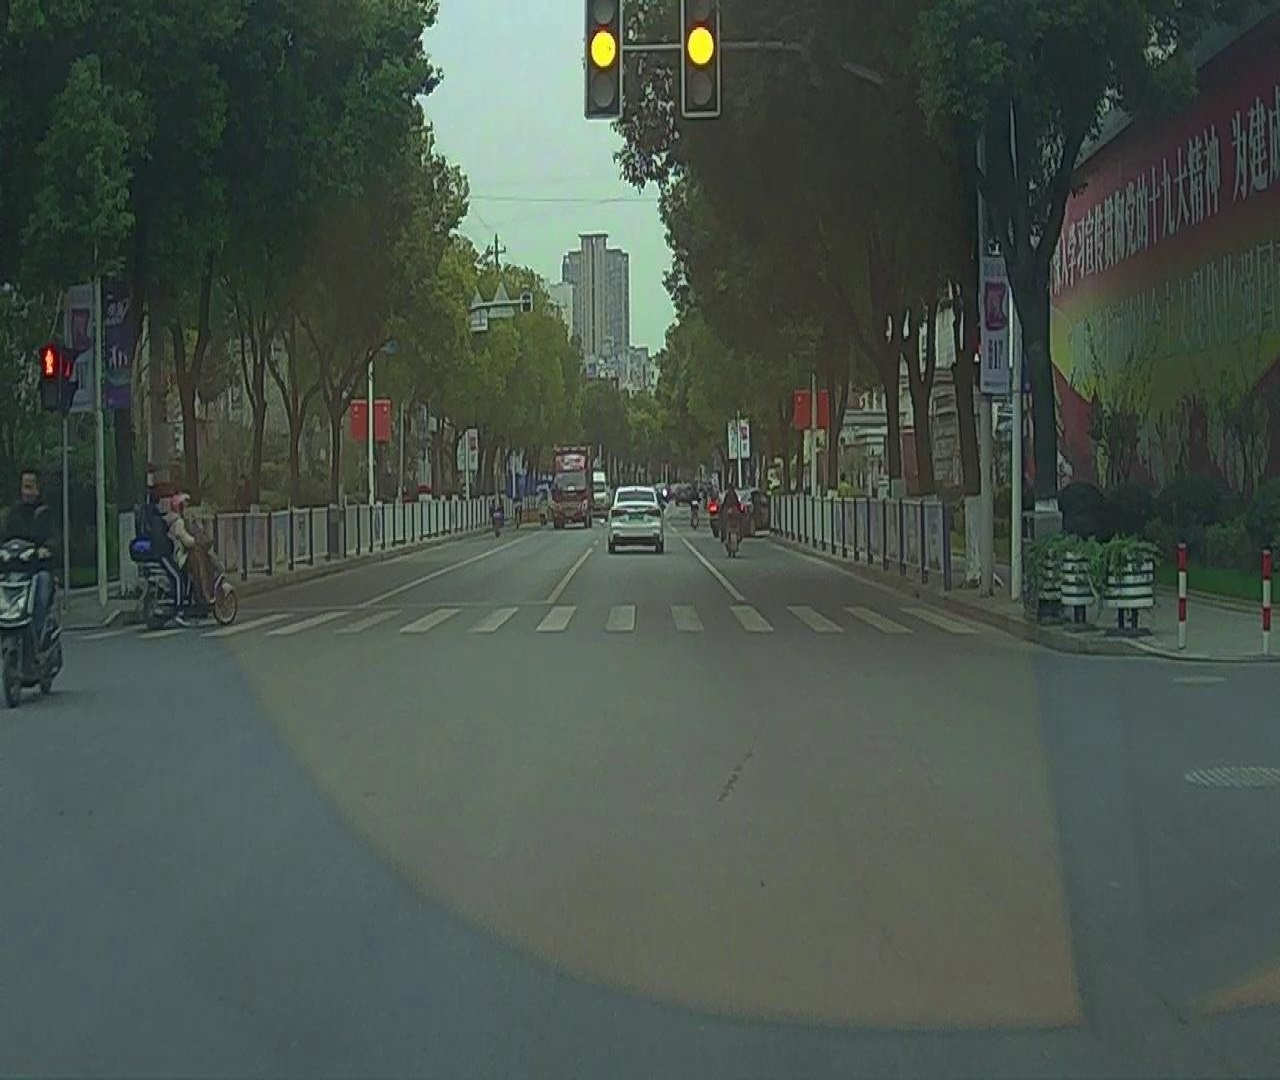yellow: (682, 1, 717, 117), (588, 1, 621, 115)
